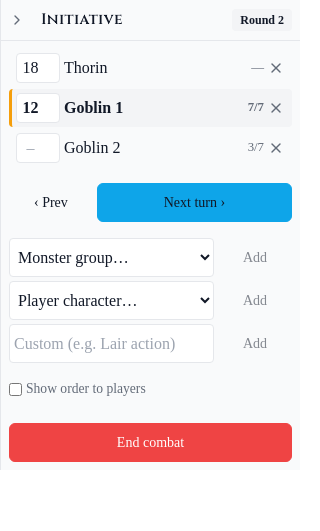
InitiativeTracker › shows backend errors
Click the button with test id "next-turn": (194, 202) 97,183 -> 292,222
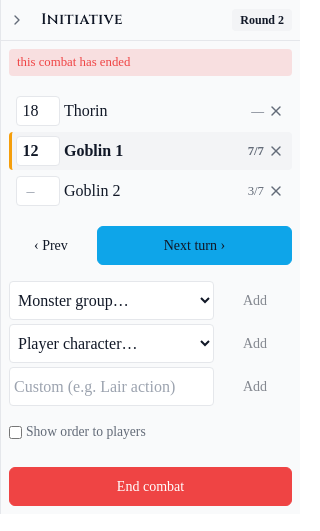
Expected: the message with test id "combat-error" reads "this combat has ended", 17,55 -> 130,69
